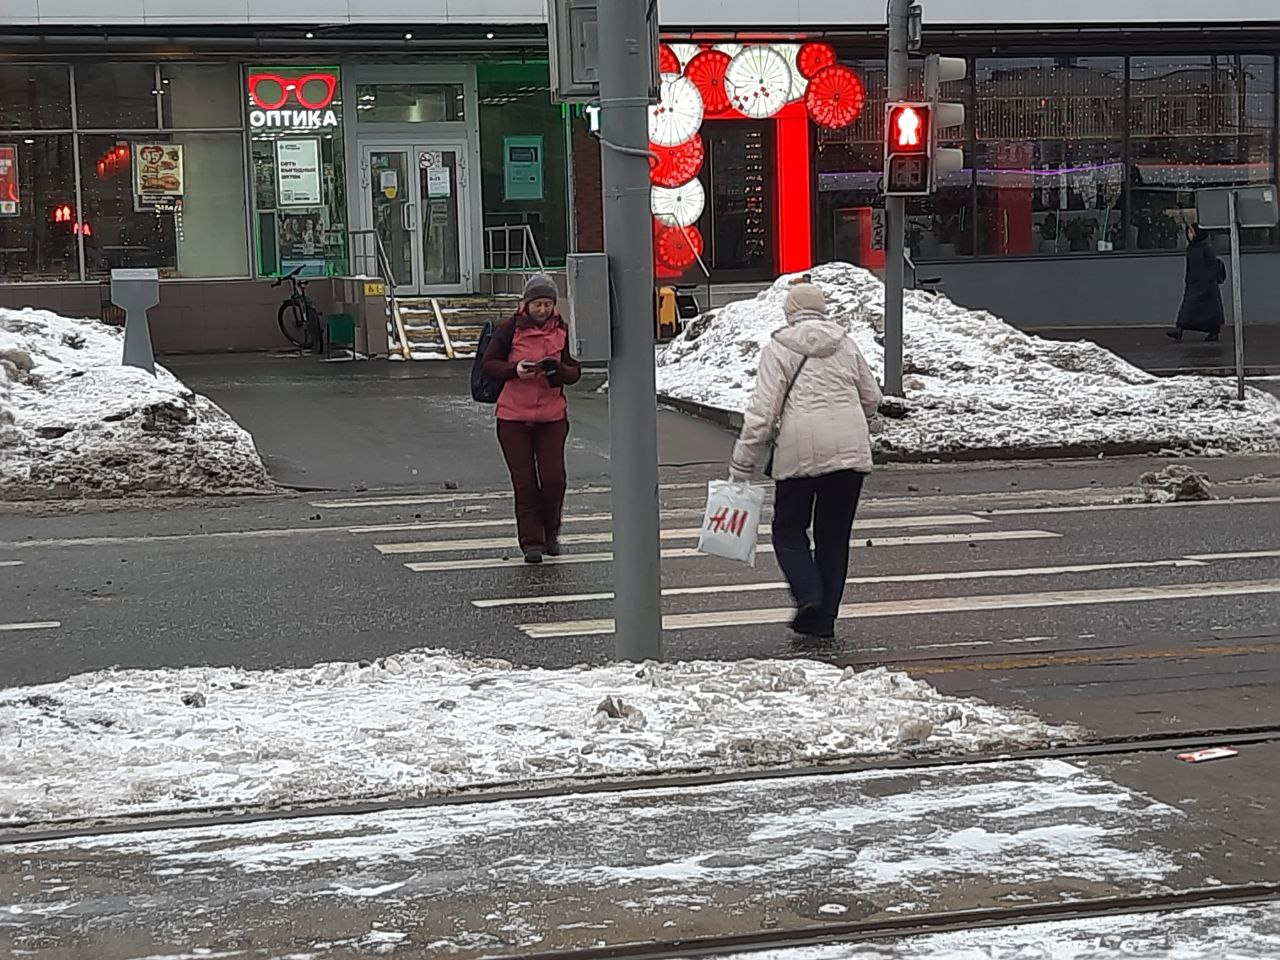sombie: (463, 262, 599, 569)
